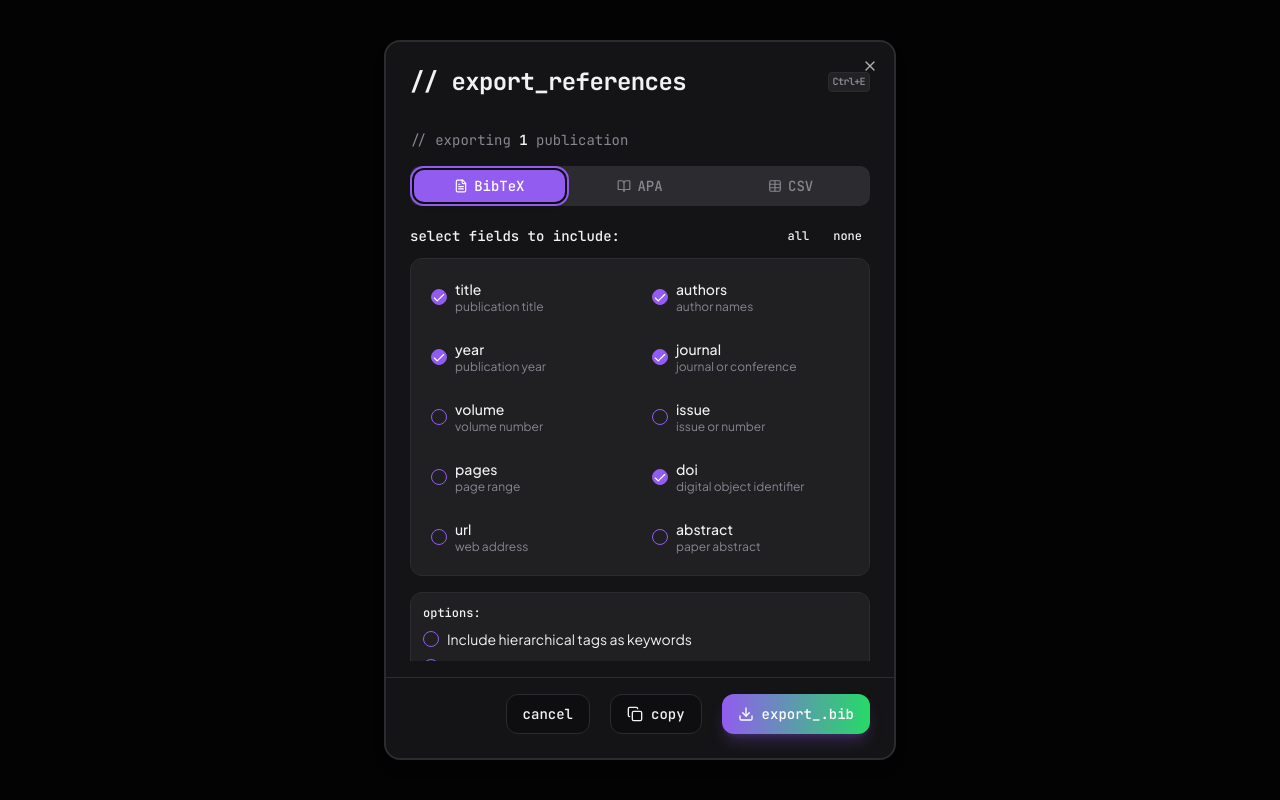
ExportDialog CSV tab › disables copy/export and shows a warning when no CSV fields are selected
Press the mouse on the tab "CSV" at (791, 186), box [715, 170, 866, 202]
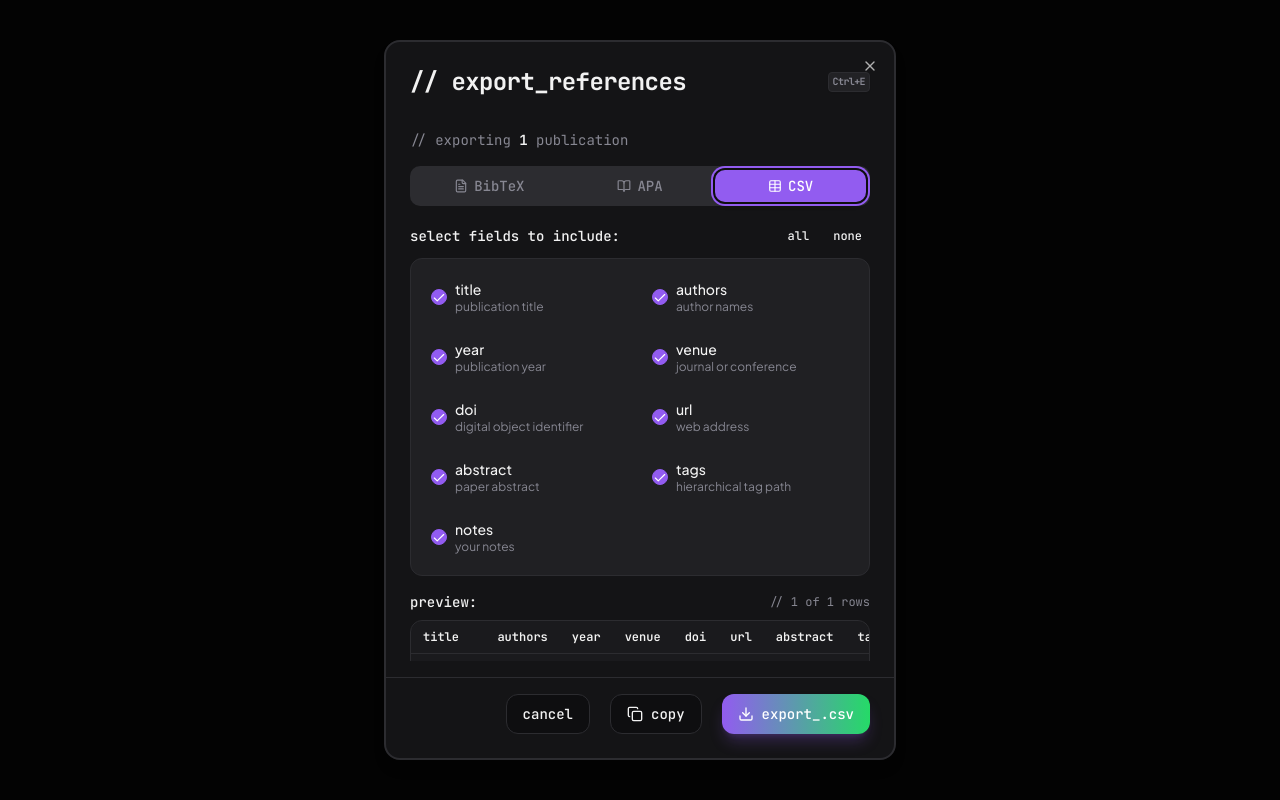
Click the button "none".
click(848, 236)  # box [825, 222, 870, 250]
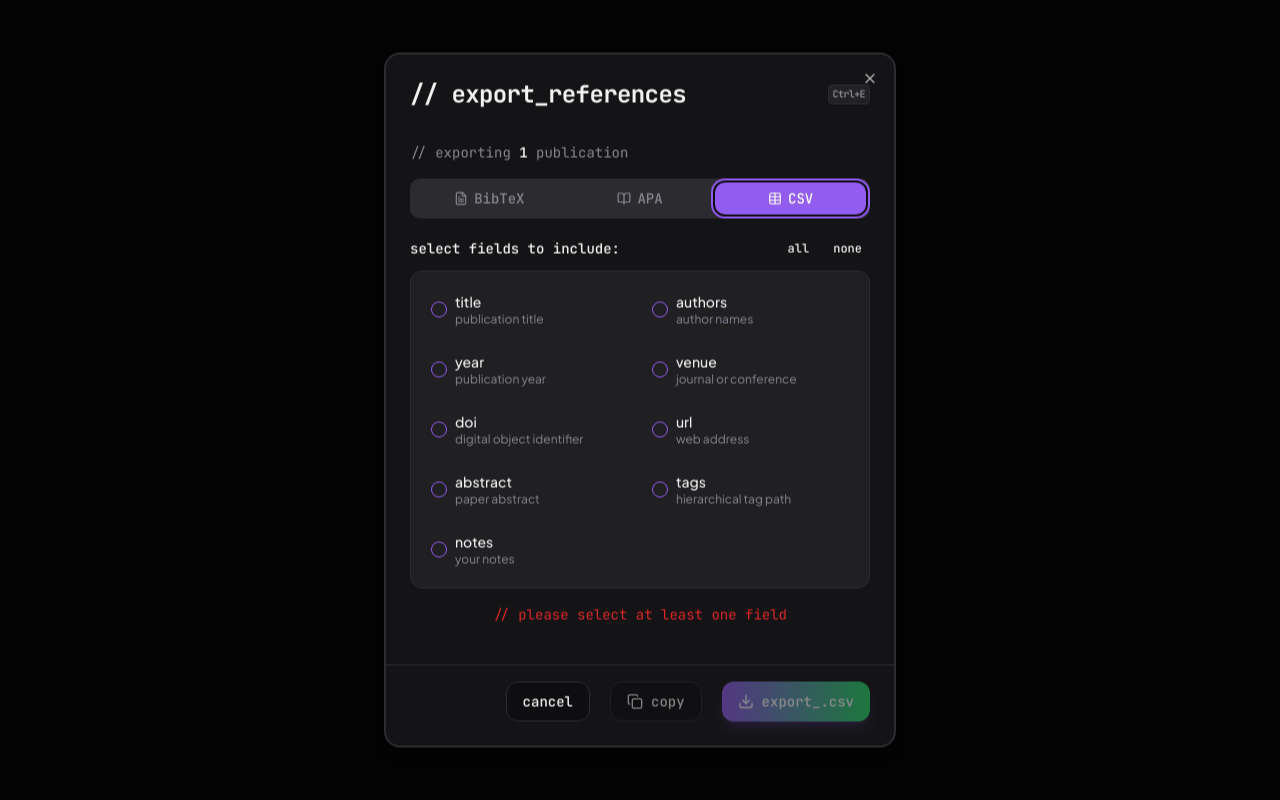
Check: the text "// please select at least one field" is shown, box [493, 606, 787, 624]
Check: the button "export_.csv" is disabled, box [722, 682, 870, 722]
